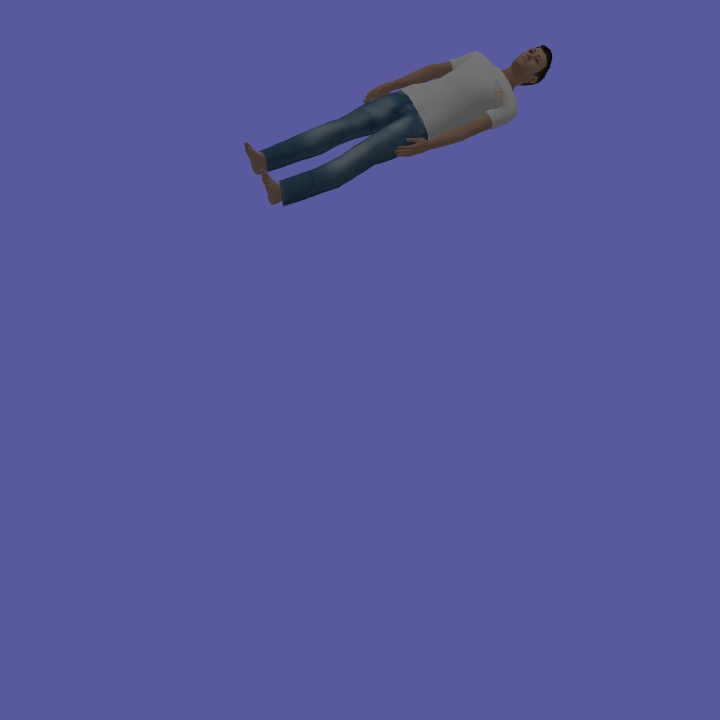victim: (240, 36, 555, 209)
